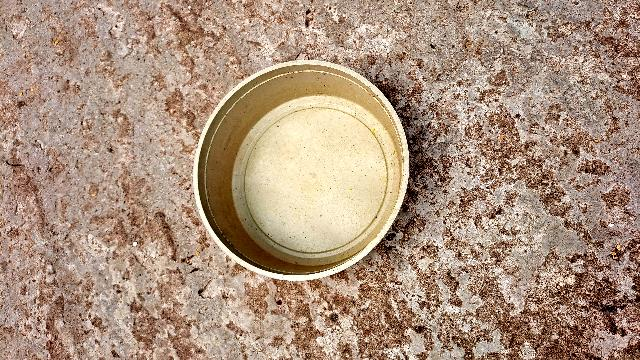hardplastic: (186, 52, 414, 289)
